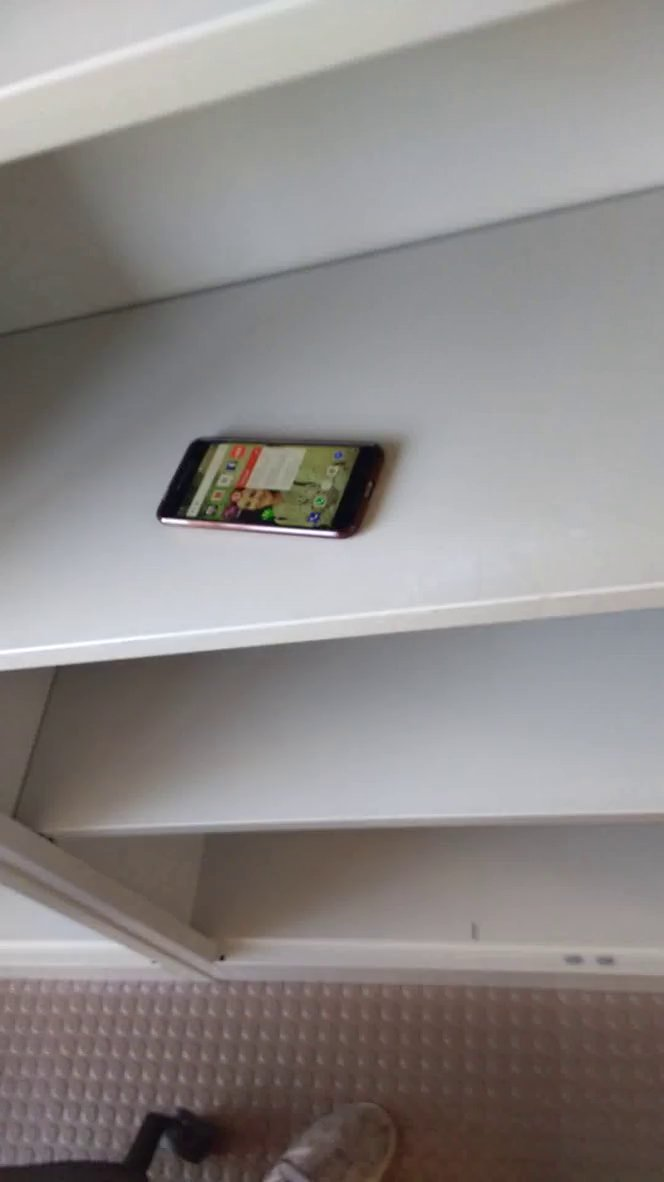phone: (151, 419, 403, 558)
